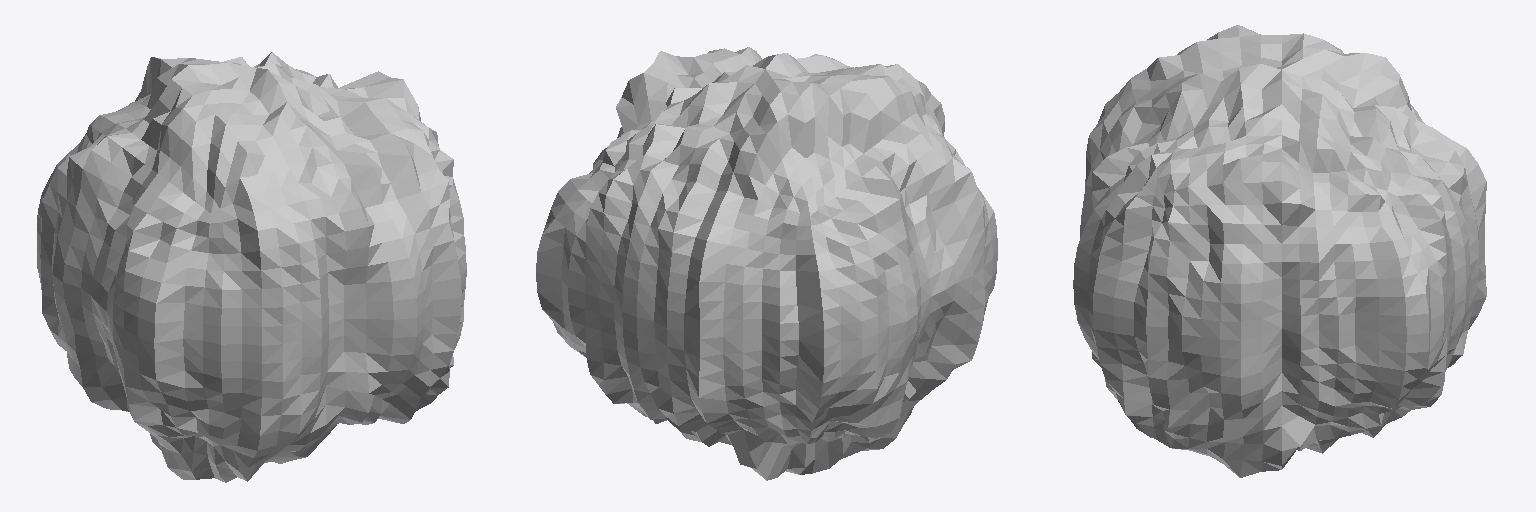
Rendered from asteroid194.obj.
3 views of the same model, side by side, from view 1: azimuth 30°, elevation 25°; view 2: azimuth 150°, elevation 25°; view 3: azimuth 270°, elevation 25° (orthographic).
Visible parts, largest first — view 1: Cube_Cube.002; view 2: Cube_Cube.002; view 3: Cube_Cube.002.
Boxes of the visible parts, box(x1,y1,x2,y2) form: Cube_Cube.002: box(37, 52, 466, 482); Cube_Cube.002: box(536, 47, 997, 480); Cube_Cube.002: box(1073, 25, 1486, 477).
Size of the model in its own units: 1.68 by 1.8 by 1.72.